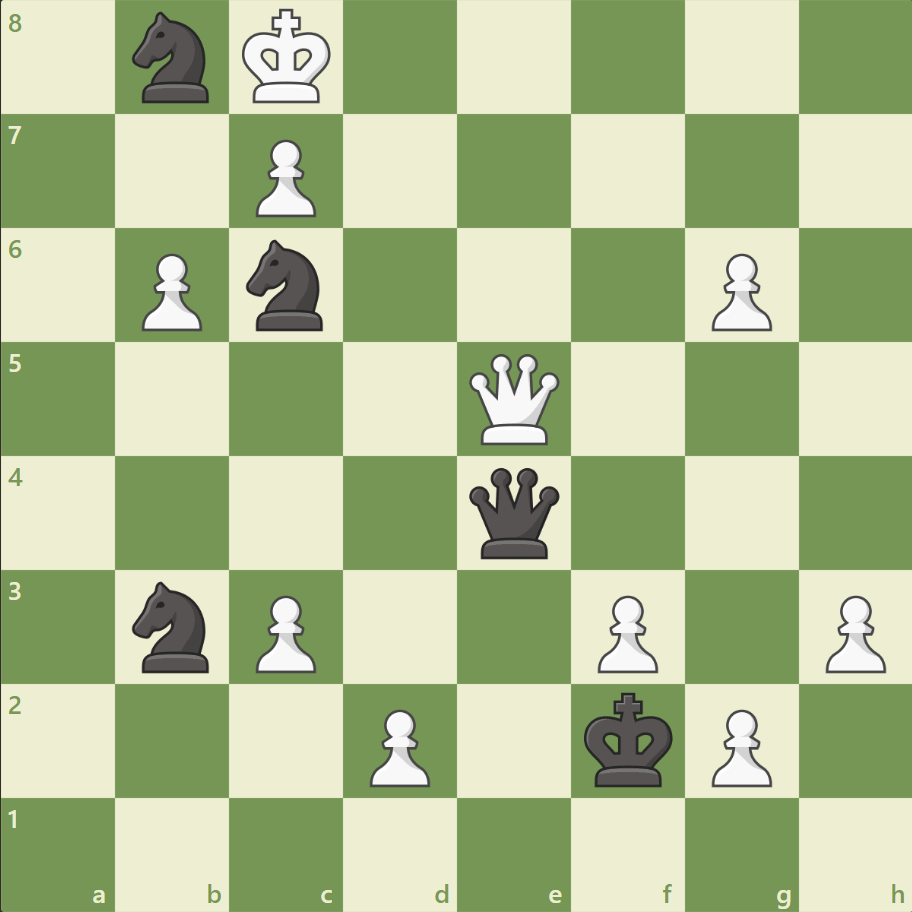K: (238, 4, 338, 112)
P: (247, 132, 322, 223), (133, 246, 208, 337), (701, 246, 776, 337), (247, 586, 322, 677), (701, 700, 776, 791), (588, 586, 662, 677), (815, 586, 889, 677), (361, 700, 435, 791)
Q: (464, 349, 563, 449)
k: (579, 685, 679, 793)
n: (124, 7, 222, 110), (124, 575, 222, 677), (238, 234, 335, 337)
q: (464, 463, 563, 562)
